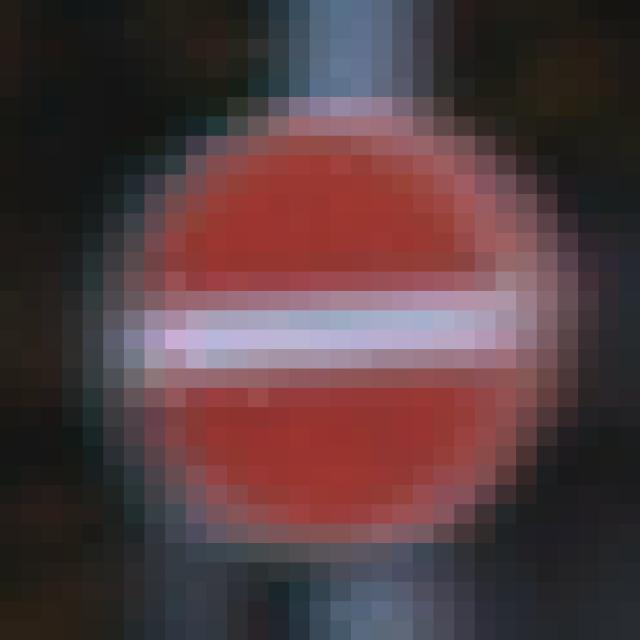No Entry: (125, 98, 538, 544)
